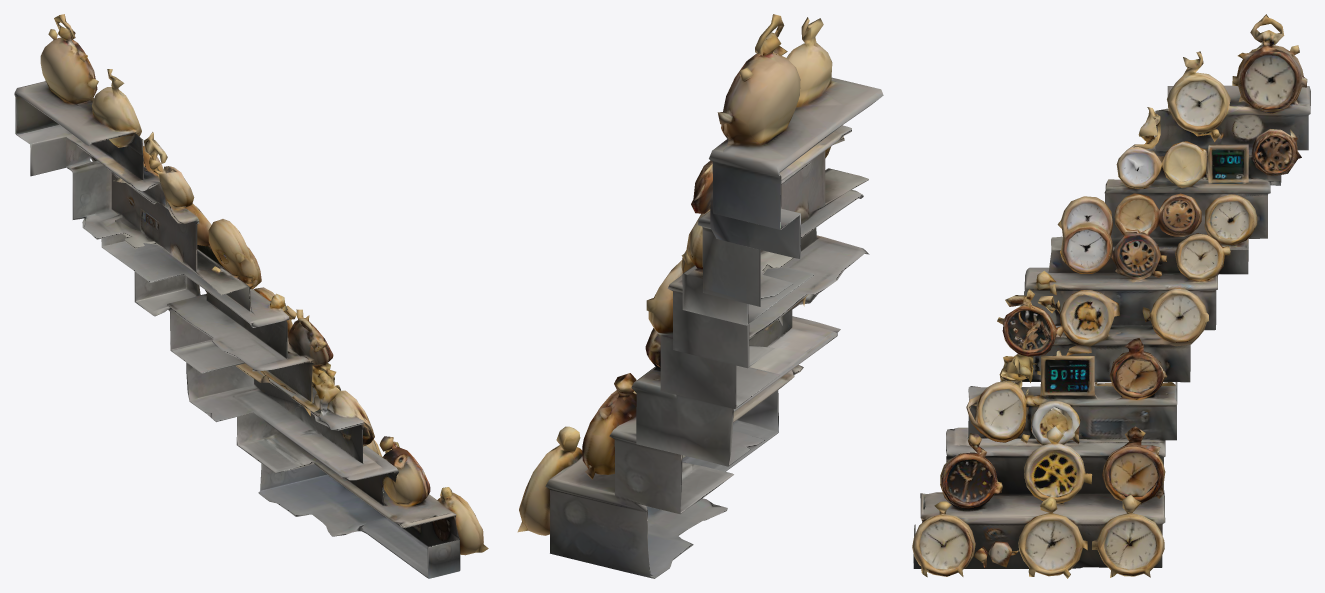
The model's file is staircase2.fbx.
3 renders of one model, left to right at view 1: azimuth 30°, elevation 25°; view 2: azimuth 150°, elevation 25°; view 3: azimuth 270°, elevation 25°, orthographic. The views are drawn at different scales.
Parts seen in each view (by area): view 1: tripo_node_9ce5d0bf; view 2: tripo_node_9ce5d0bf; view 3: tripo_node_9ce5d0bf.
Part boxes in pixels (left/top/right/bottom): tripo_node_9ce5d0bf: left=14, top=14, right=488, bottom=578; tripo_node_9ce5d0bf: left=517, top=14, right=883, bottom=578; tripo_node_9ce5d0bf: left=912, top=14, right=1310, bottom=578.
Bounding box in the file's own units: 0.6002 × 0.999 × 0.7947.
1 material, 1 textured.
